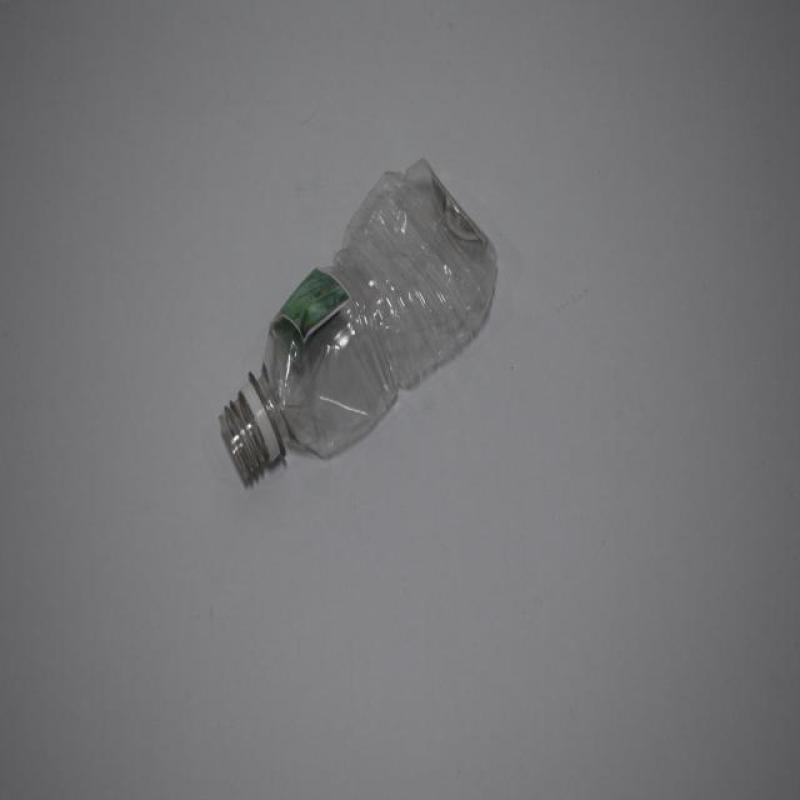botella: (217, 156, 499, 486)
